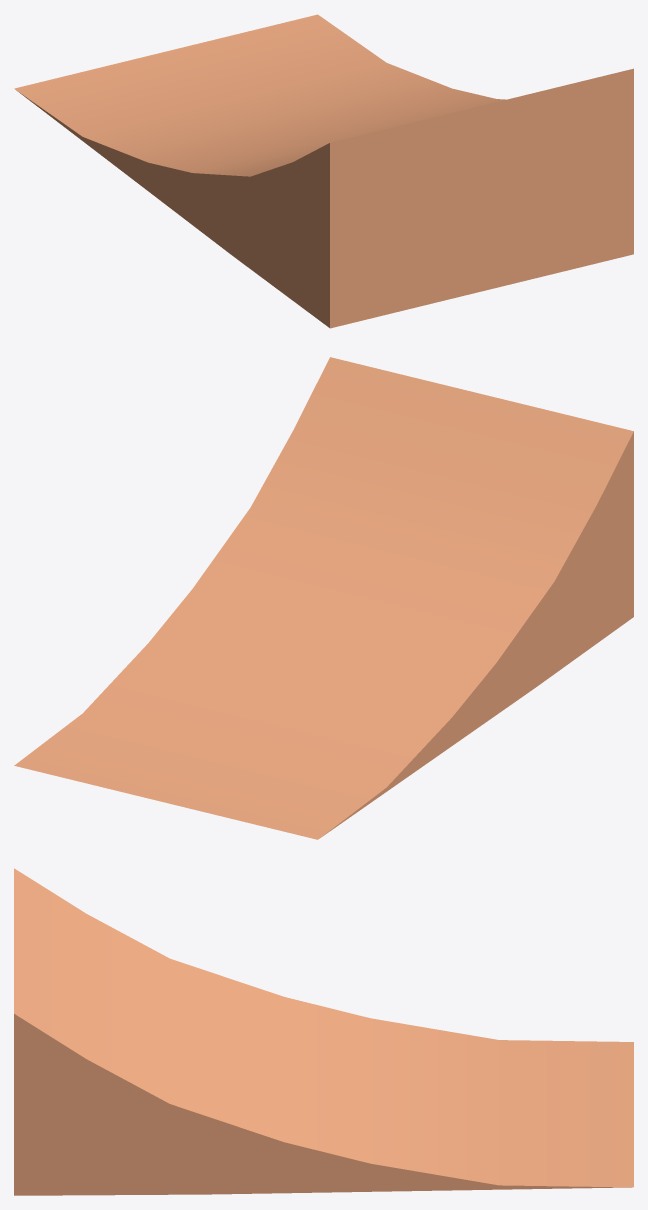
File: ramp1fbx.fbx
3 views of the same model, one above another, from view 1: azimuth 30°, elevation 25°; view 2: azimuth 150°, elevation 25°; view 3: azimuth 270°, elevation 25° (orthographic).
Parts seen in each view (by area): view 1: pPlane3; view 2: pPlane3; view 3: pPlane3.
Part boxes in pixels (box(x1,y1,x2,y2)): pPlane3: box(14, 14, 633, 328); pPlane3: box(14, 357, 633, 839); pPlane3: box(14, 868, 633, 1195).
Size of the model in its own units: 325 by 190 by 586.
